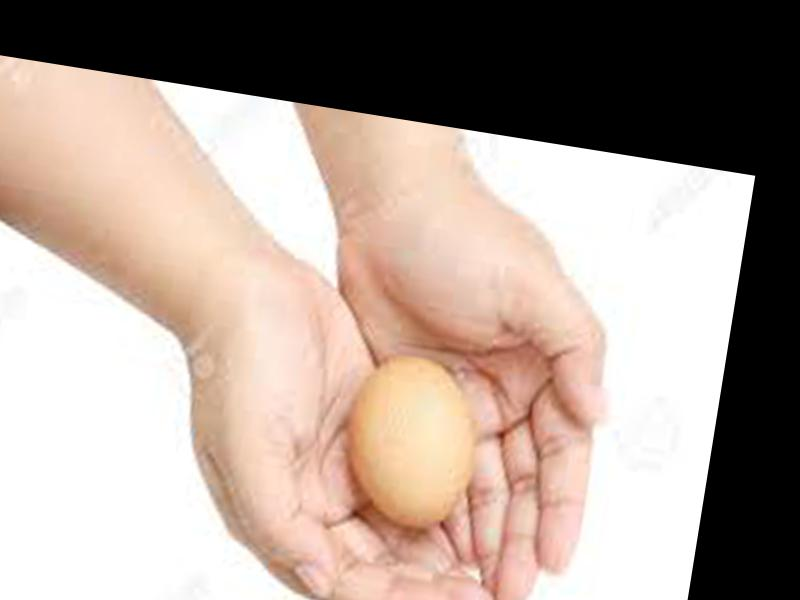Eggs: (336, 351, 484, 529)
